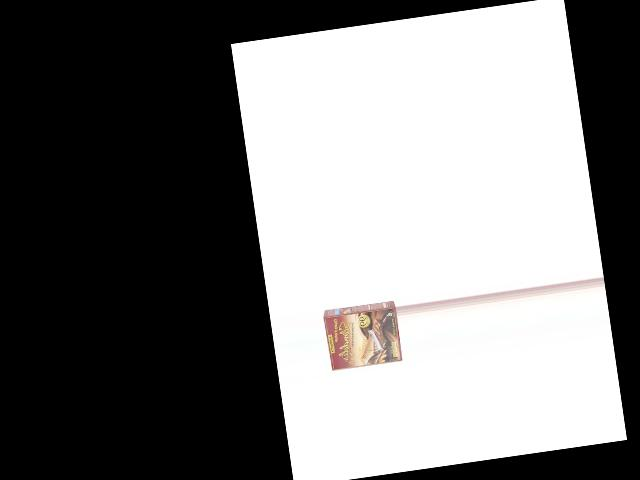chocolate: (321, 296, 404, 377)
